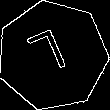L_SE: (28, 26, 77, 85)
